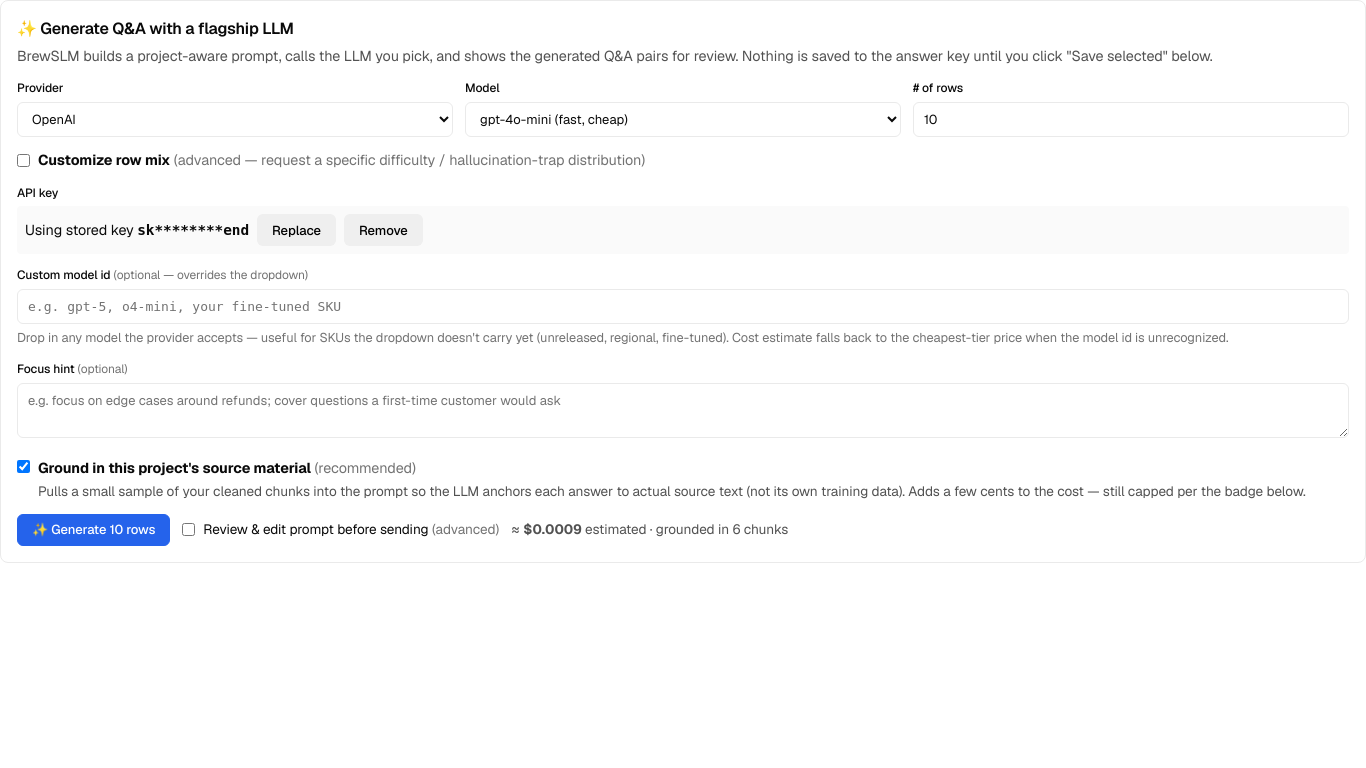
Test: LlmGoldGeneratePanel › "Remove" clicks DELETE + refetches the stored-key state
Check: the element with test id "llm-gold-stored-key-row" is shown, box [17,184,1349,254]
Click the button with test id "llm-gold-stored-key-remove" at (383, 230), box [344,214,423,246]
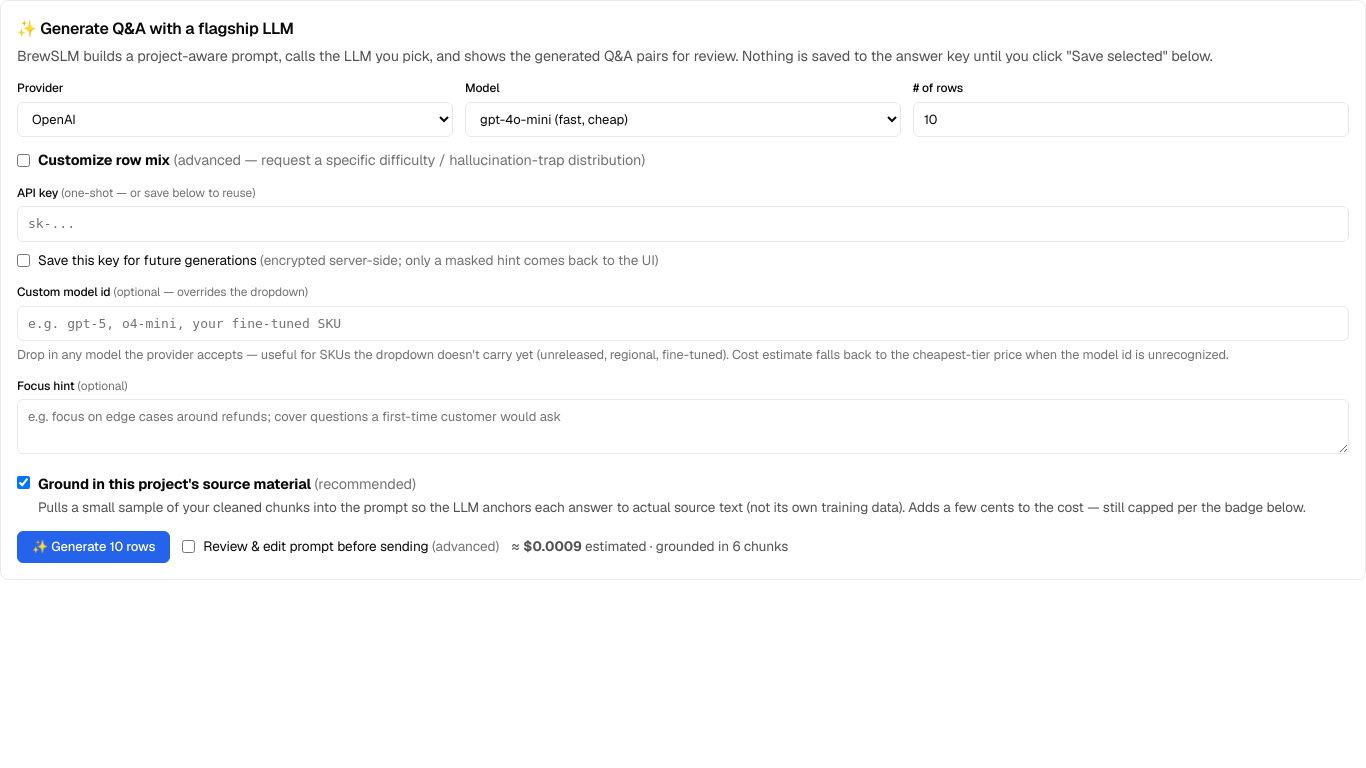
Check: the password field with test id "llm-gold-api-key" is shown, box [17,206,1349,242]
Check: the checkbox with test id "llm-gold-save-key-toggle" is shown, box [17,254,30,267]
Check: the element with test id "llm-gold-stored-key-row" is gone
